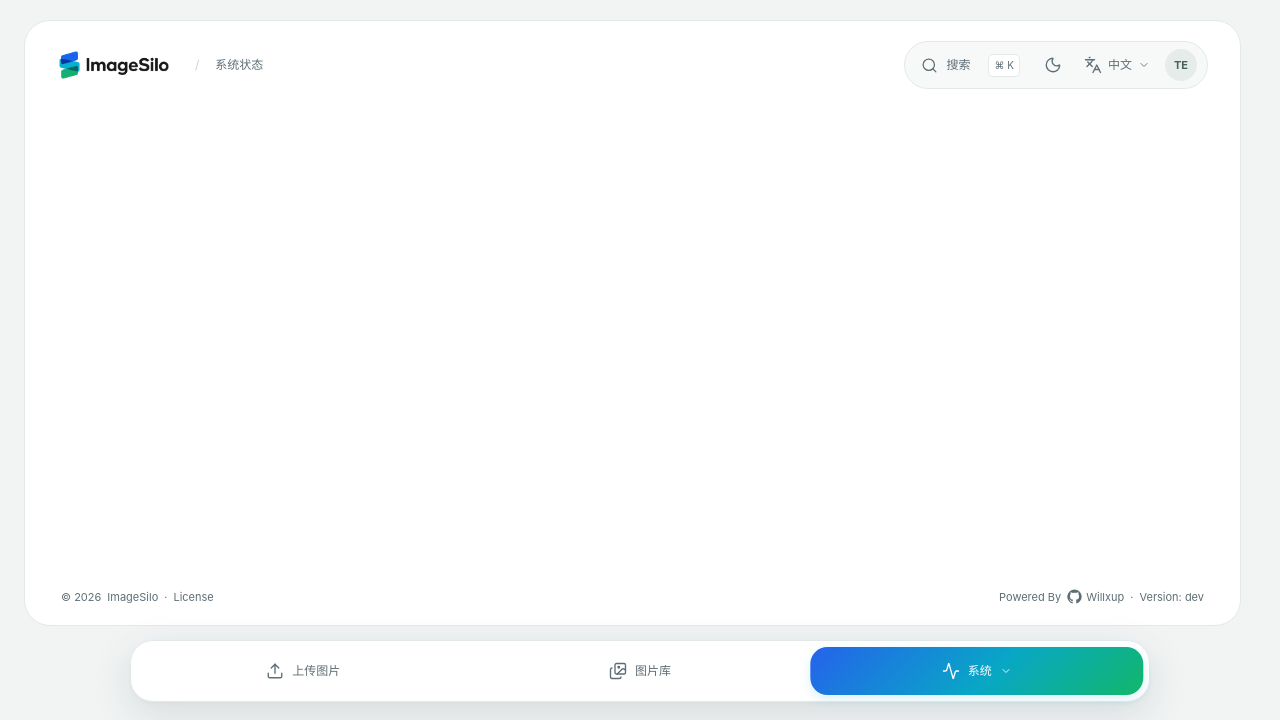
Test: names the compact current destination and exposes menu state
The image size is (1280, 720).
Click the button with aria-label "系统, 打开菜单". click: (977, 671)
box: [810,647,1143,695]
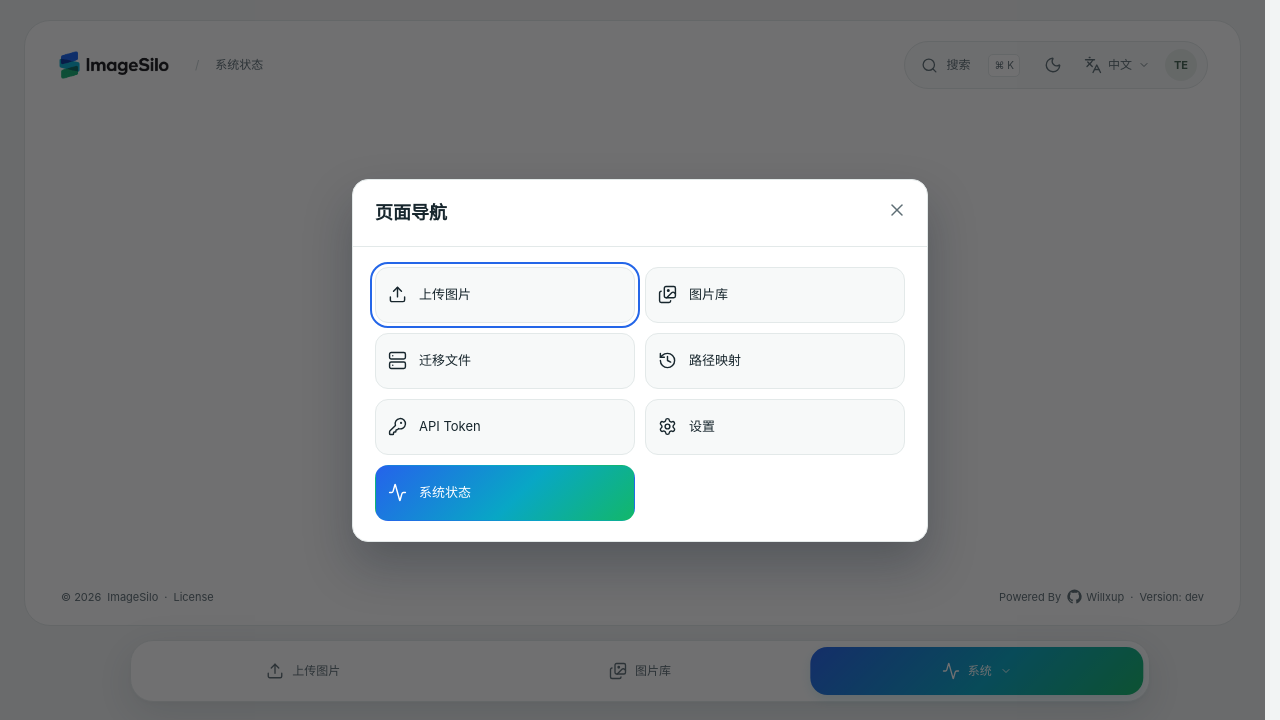
Now the button with aria-label "系统, 打开菜单" is expanded, box [810,647,1143,695]
Now the dialog "页面导航" is shown, box [352,178,928,542]
